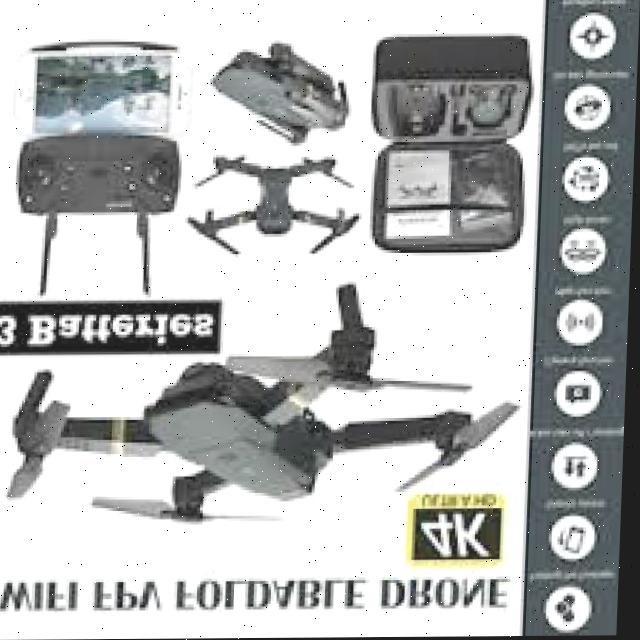drone: (2, 277, 530, 542), (192, 144, 364, 260)
